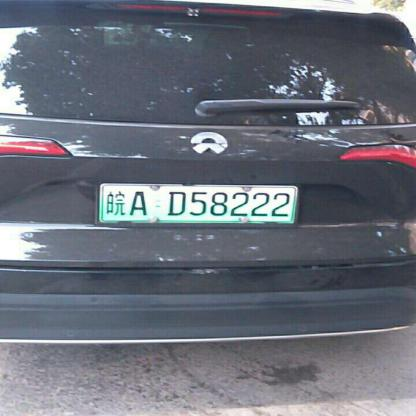lp: (103, 185, 292, 221)
